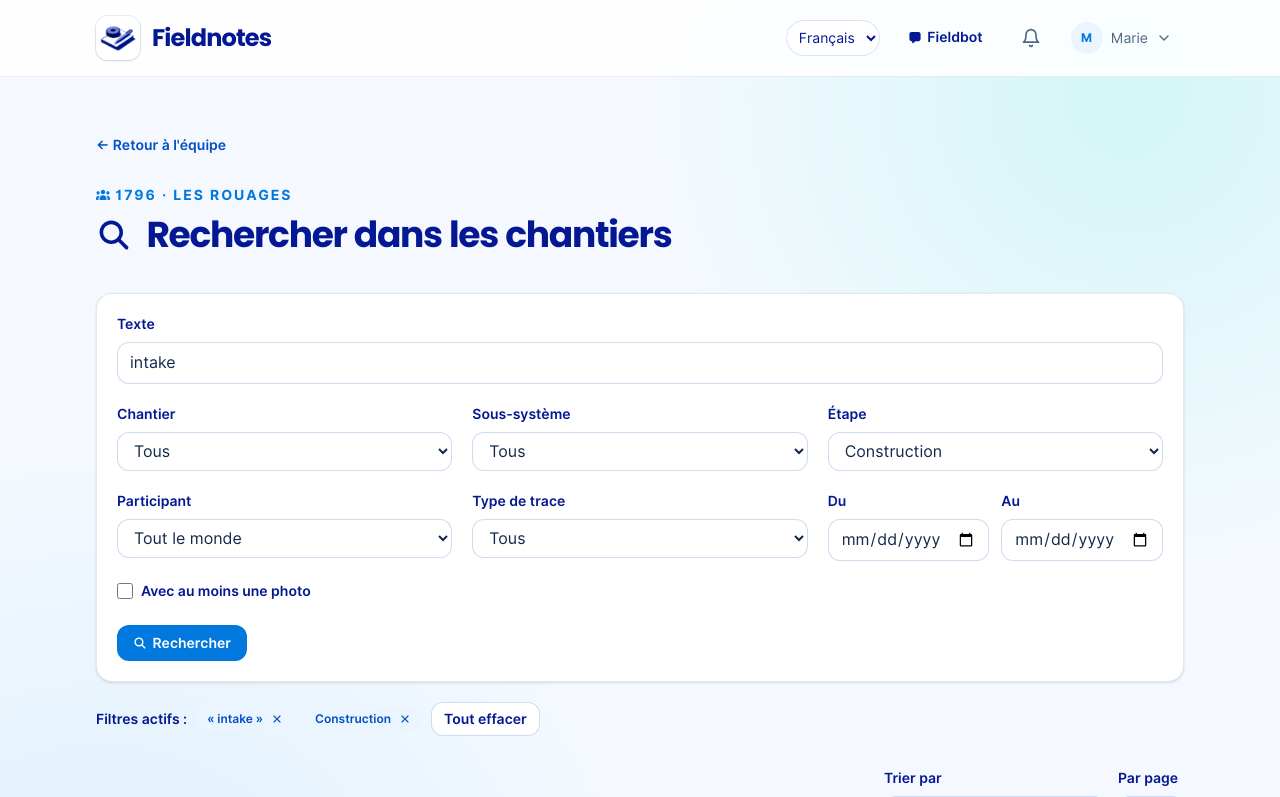
Test: removes one filter and keeps the others, from the first page
The image size is (1280, 797).
Click the button with aria-label "Retirer le filtre Construction".
click(363, 719)  # box [303,707,423,731]
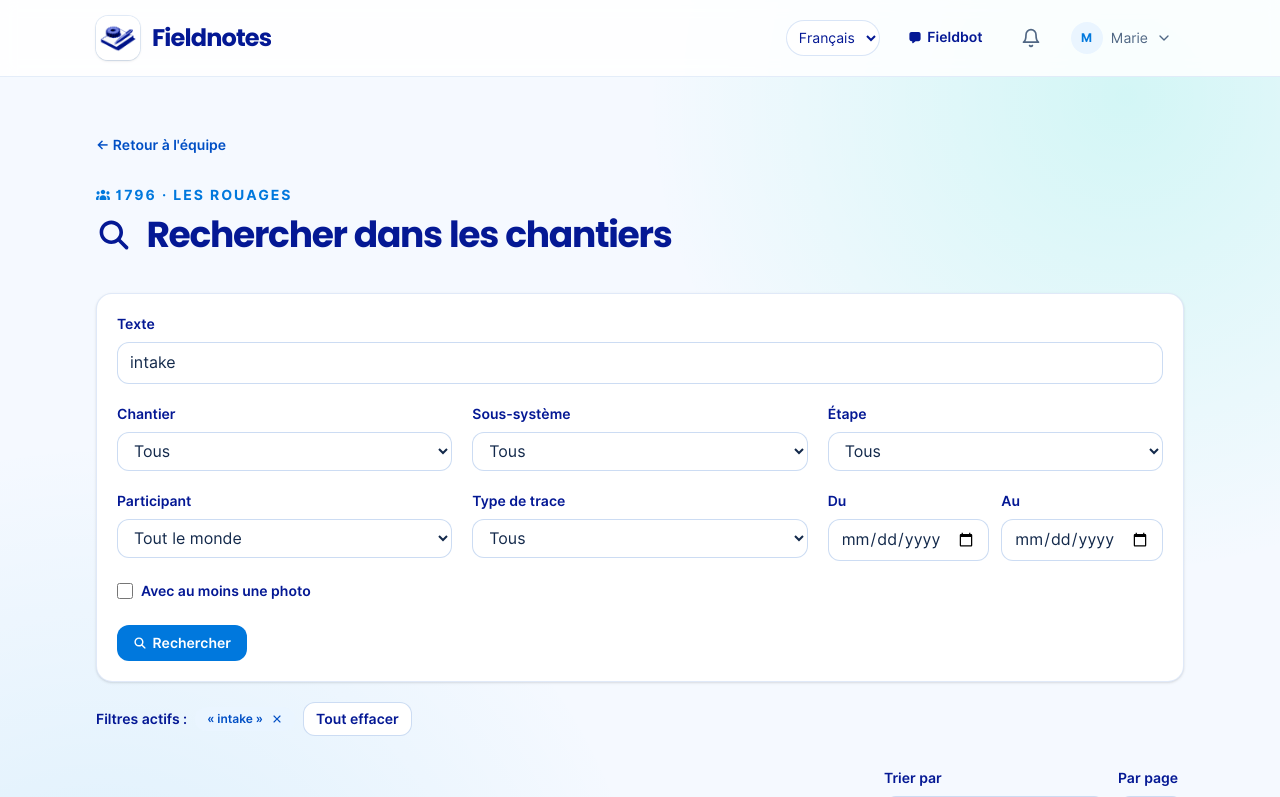
expect the dropdown labelled "Étape" shows "Tous": met, box [828,432,1163,471]
